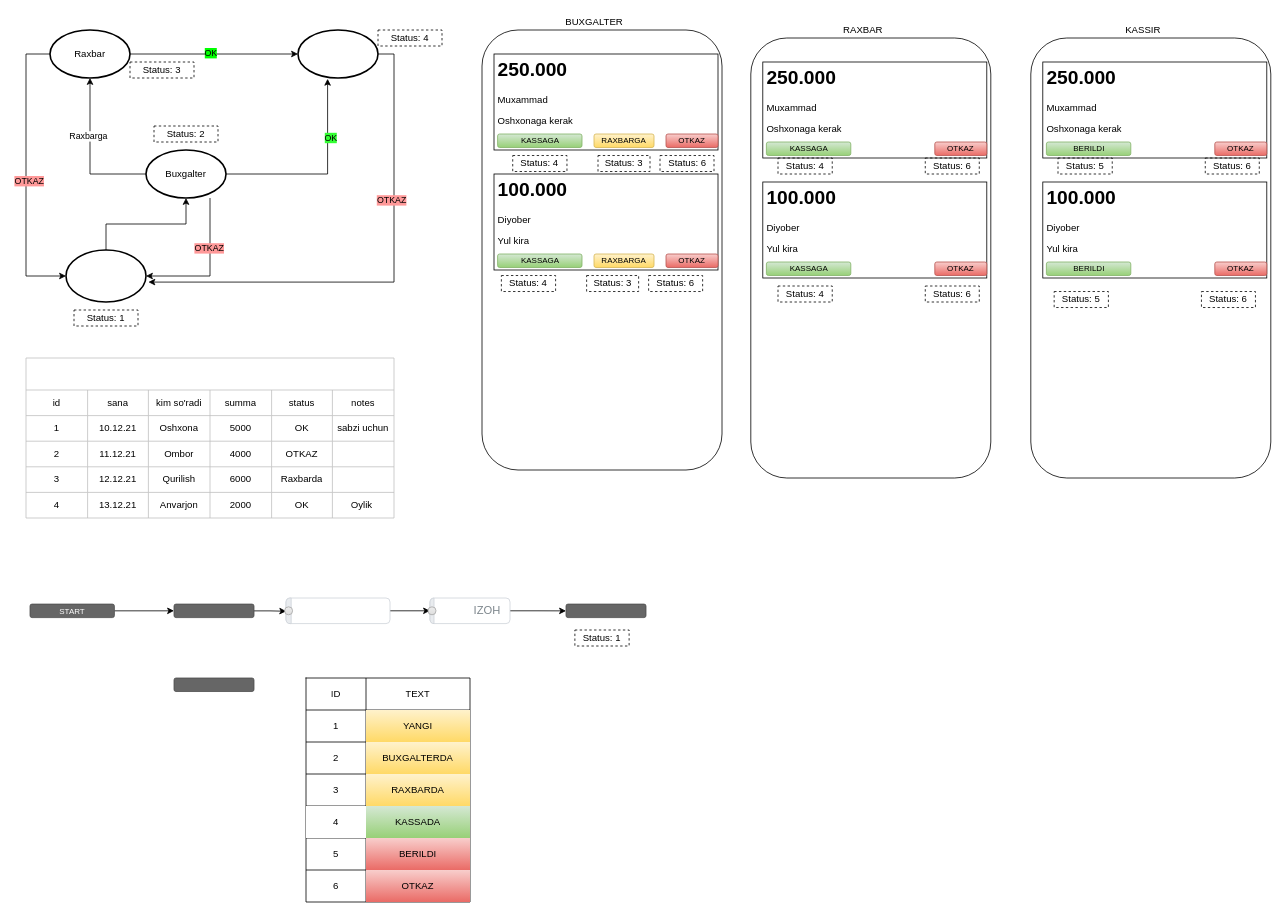
Some shapes in this 1285 by 916 pixel diagram are drawn without their labels. The shapes that lost their labels are listed below. From the top down, each one's centre as x and y in pixels, then its label:
point 337,53: Kassa
point 105,275: Bo'lim pul so'radi
point 213,610: PUL SO"RASH
point 337,610: SUMMANI YOZISH
point 605,610: YUBORISH
point 213,684: SO'ROVLARIM
